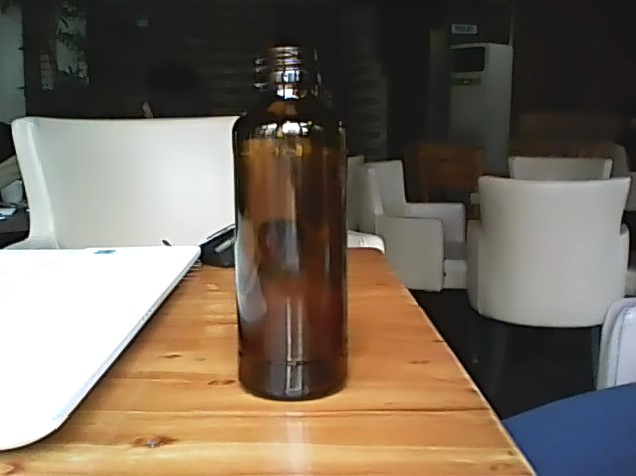Glass: (228, 44, 351, 404)
